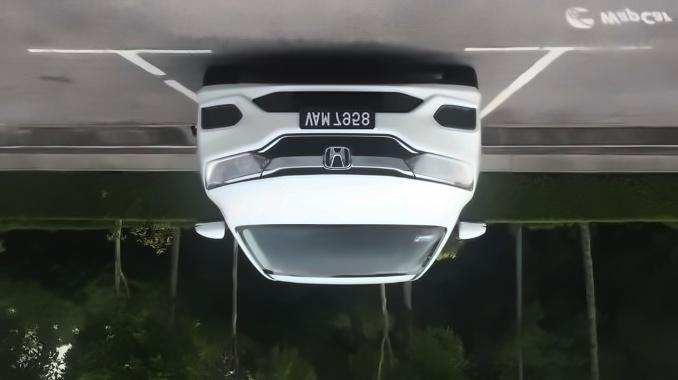Car hood: (201, 173, 476, 229)
Front bumper: (195, 76, 485, 165)
Headlight - -L-: (205, 151, 273, 190)
Headlight - -R-: (402, 153, 476, 191)
Side mirror - -L-: (194, 219, 229, 240)
Side mirror - -R-: (451, 219, 488, 244)
